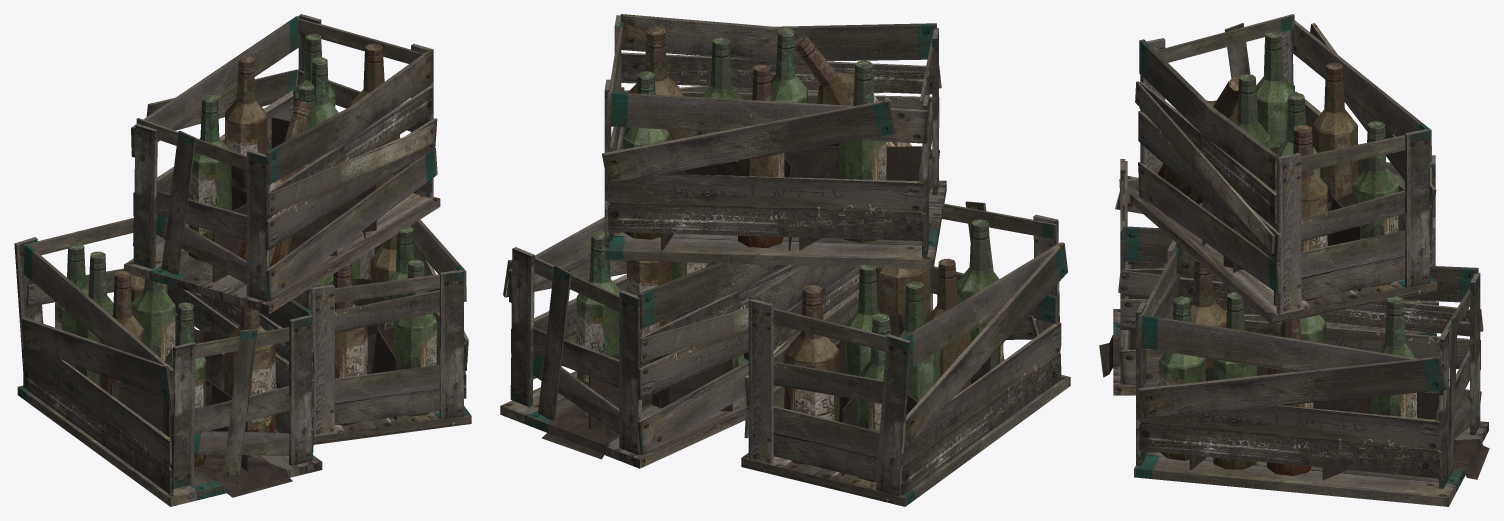
The model's file is Liquor_Box.fbx.
3 views of the same model, side by side, from view 1: azimuth 30°, elevation 25°; view 2: azimuth 150°, elevation 25°; view 3: azimuth 270°, elevation 25° (orthographic). The views are drawn at different scales.
Visible parts, largest first — view 1: M_c3_dts_jiuxiang_02.mo; view 2: M_c3_dts_jiuxiang_02.mo; view 3: M_c3_dts_jiuxiang_02.mo.
Part boxes in pixels (x1,y1,x2,y2): M_c3_dts_jiuxiang_02.mo: (14, 14, 471, 506); M_c3_dts_jiuxiang_02.mo: (500, 14, 1070, 506); M_c3_dts_jiuxiang_02.mo: (1099, 14, 1489, 506).
Size of the model in its own units: 80.2 by 67.39 by 69.27.
